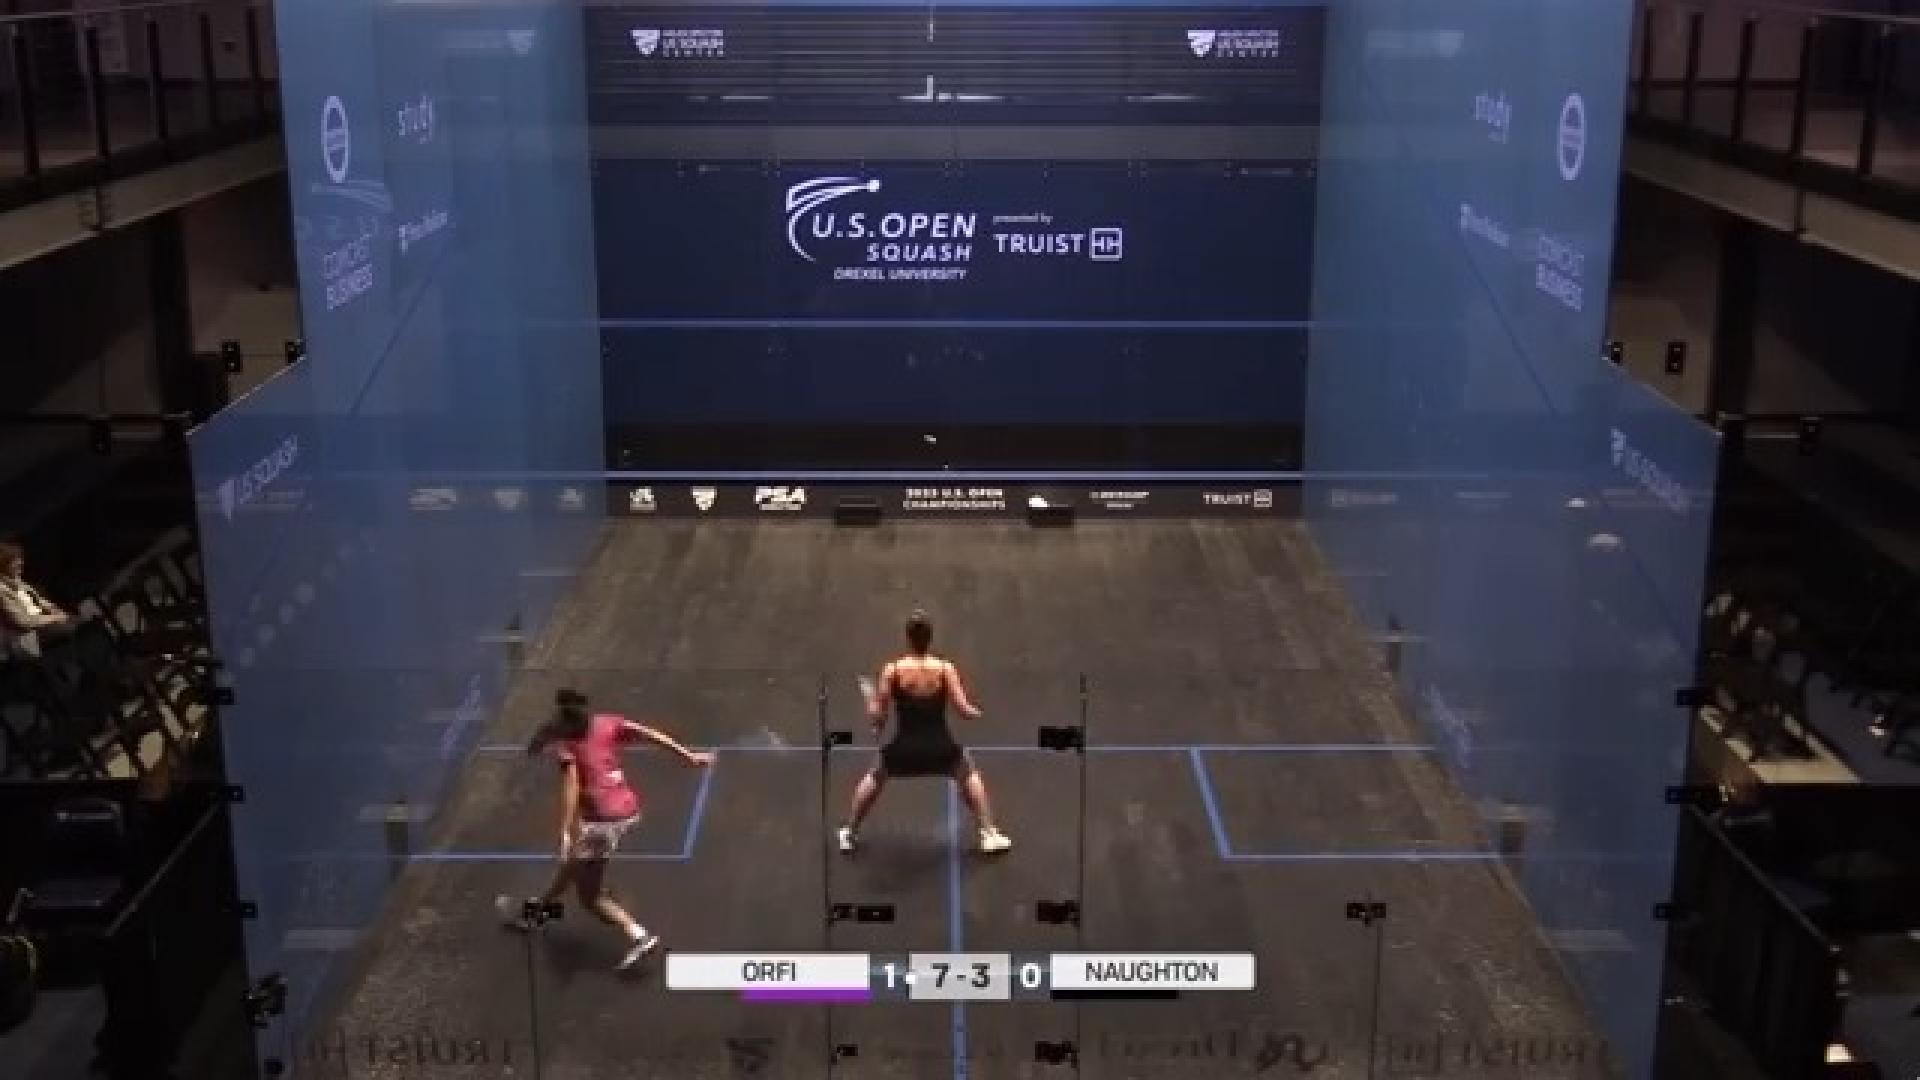Squash-Ball: (915, 414, 952, 467)
